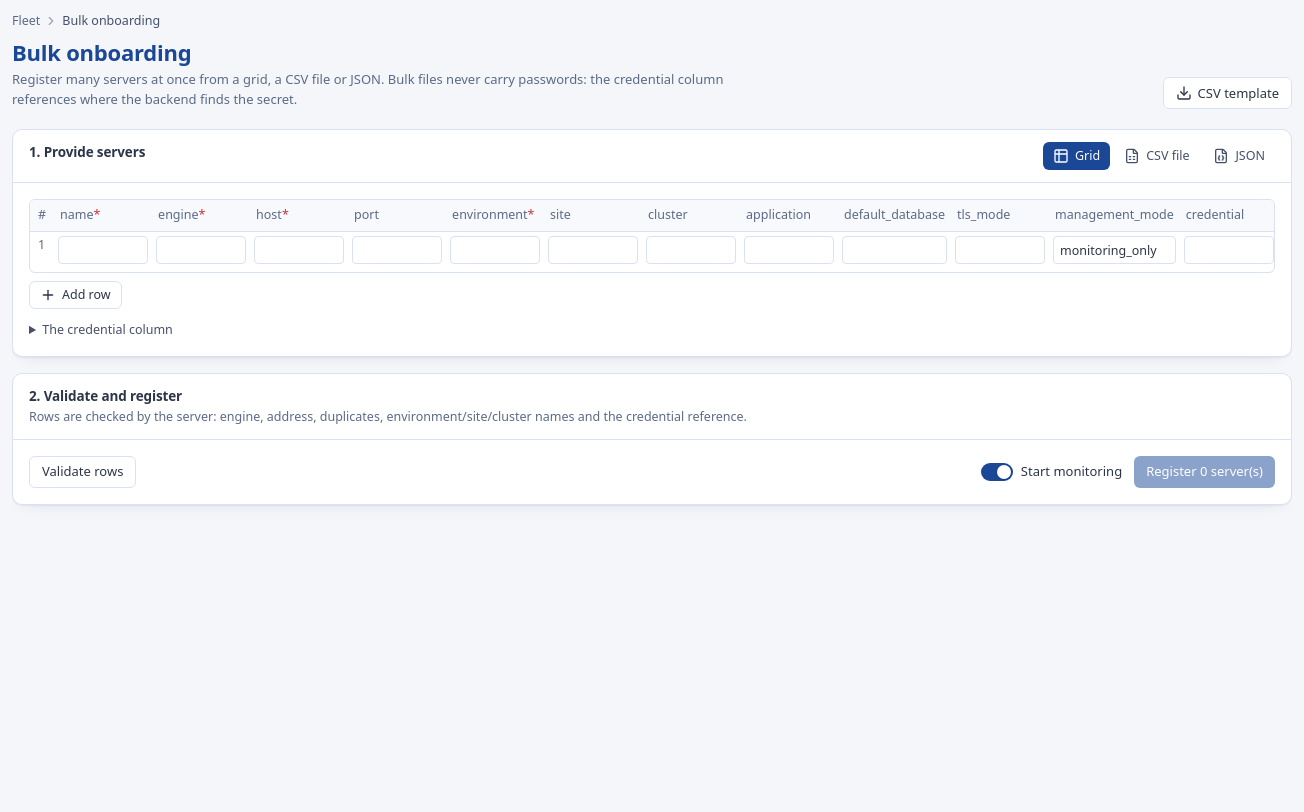
it: bulk onboarding › validates rows on the server, highlights errors in place and registers valid rows
This screenshot has width=1304, height=812.
Type "pg-01" into the field named "Row 1 name". click: [103, 250]
box: top-left (58, 236), bottom-right (148, 264)
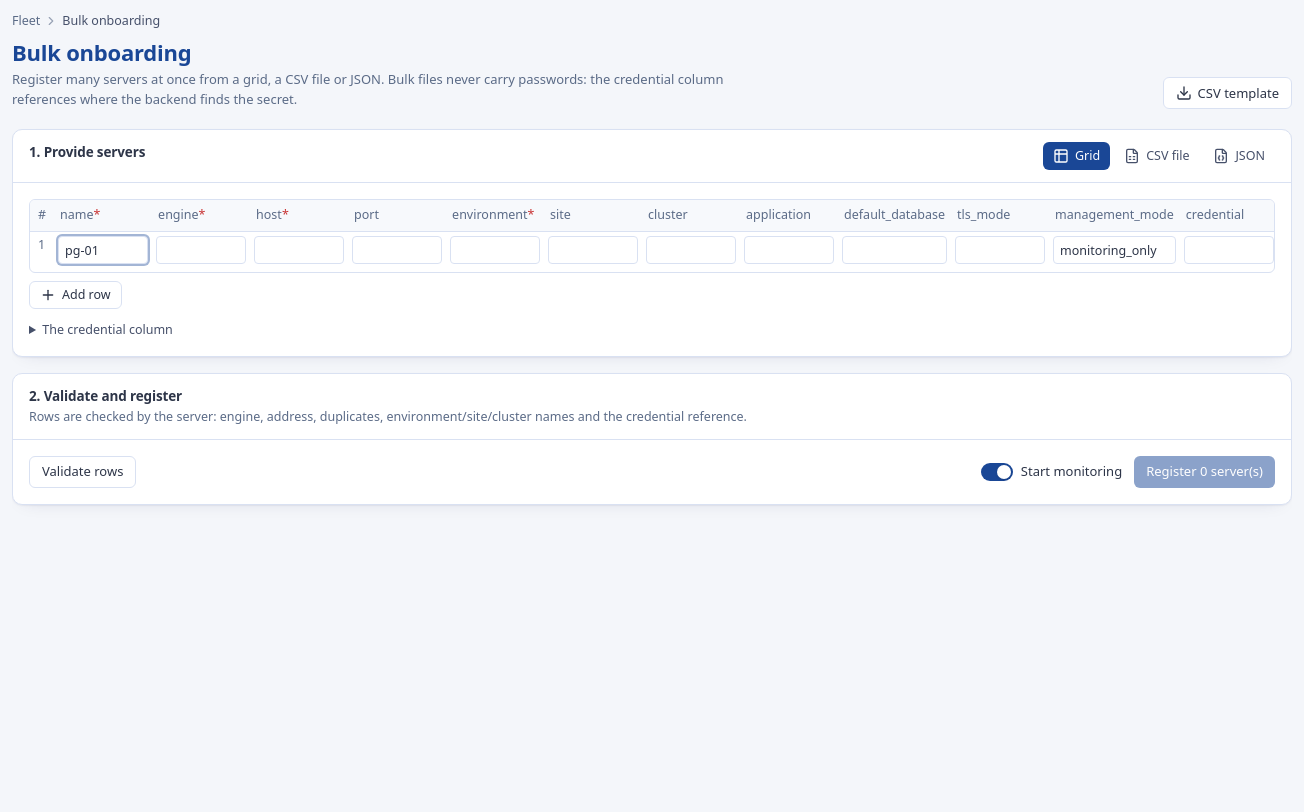
Type "Prd" into the field named "Row 1 environment". click: [495, 250]
box: top-left (450, 236), bottom-right (540, 264)
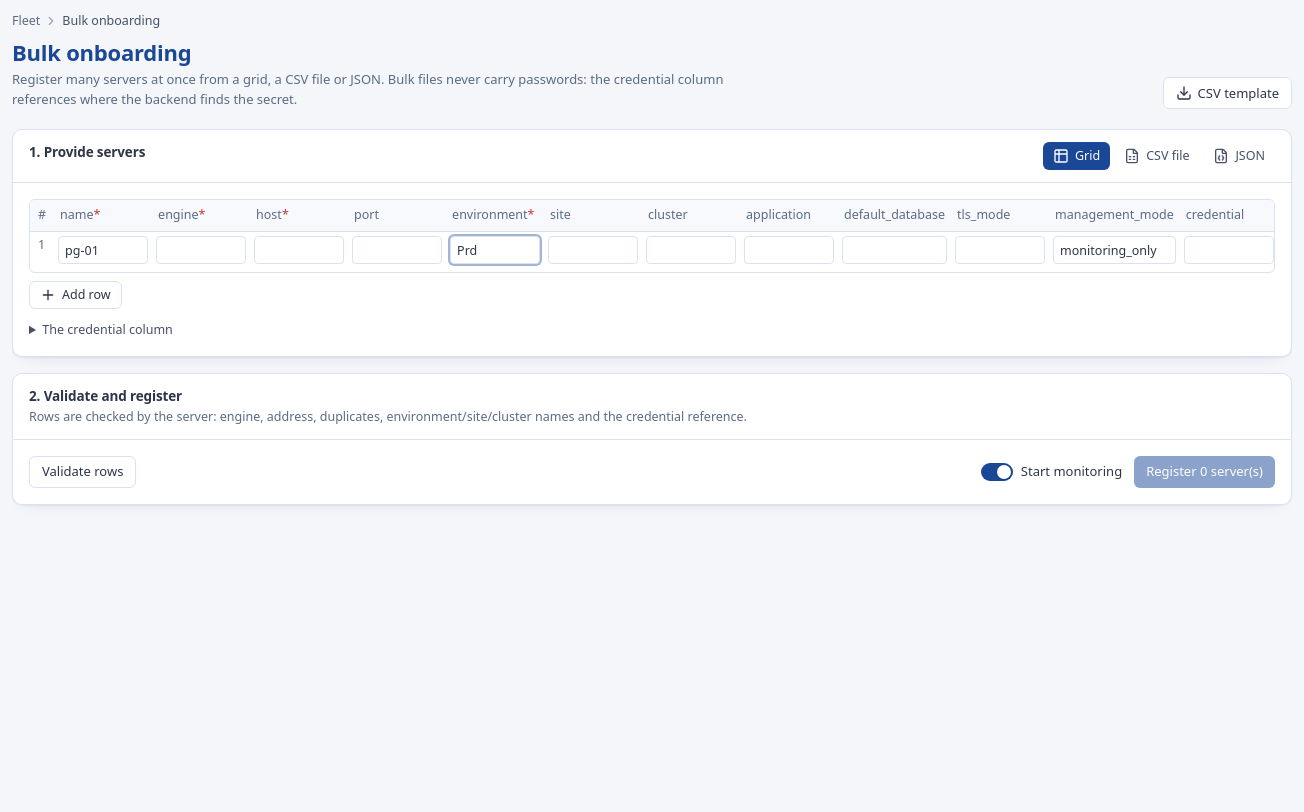
Click the button "Validate rows". click: [83, 472]
box: top-left (29, 456), bottom-right (136, 488)
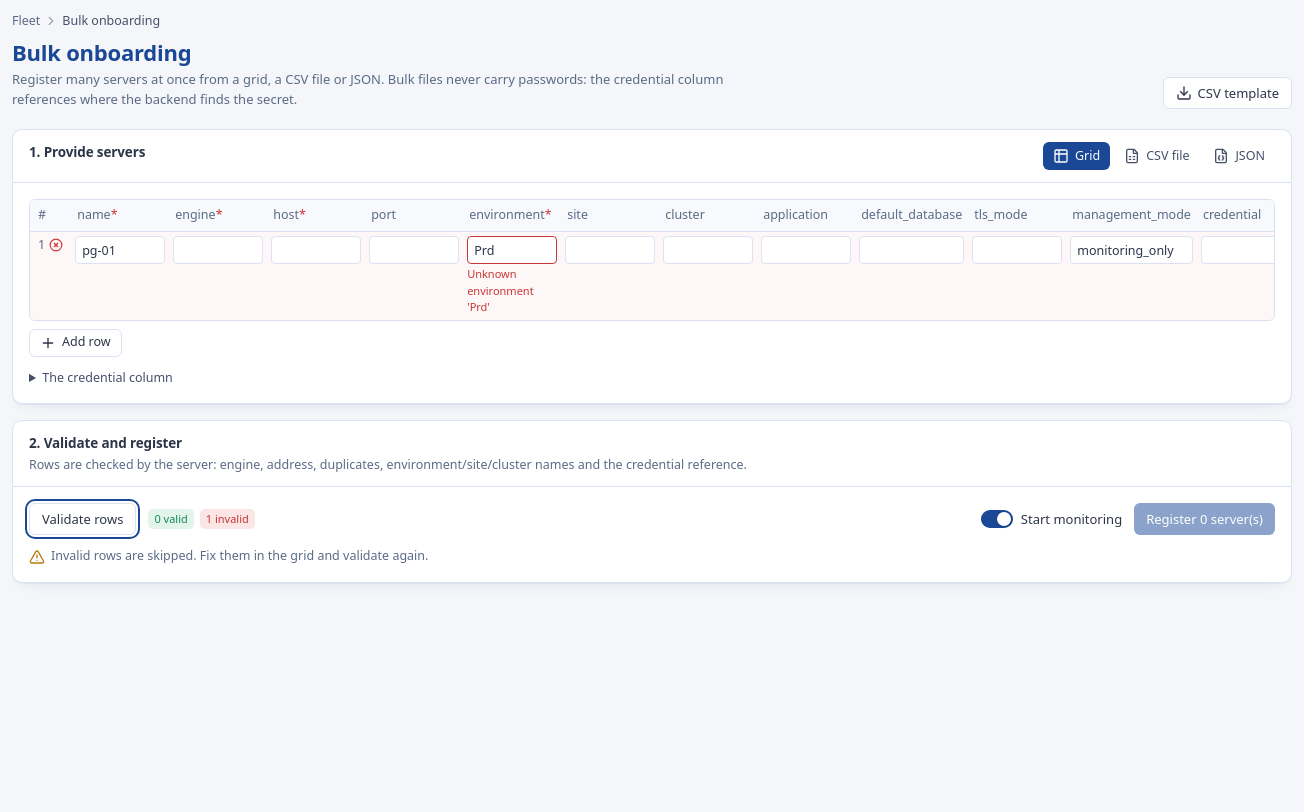
Check: the button "Register 0 server(s)" is disabled, box top-left (1134, 503), bottom-right (1275, 535)
Check: the text "Unknown environment 'Prd'" is shown, box top-left (467, 266), bottom-right (534, 314)
Type "o" into the field named "Row 1 environment". click: [512, 250]
box: top-left (467, 236), bottom-right (557, 264)
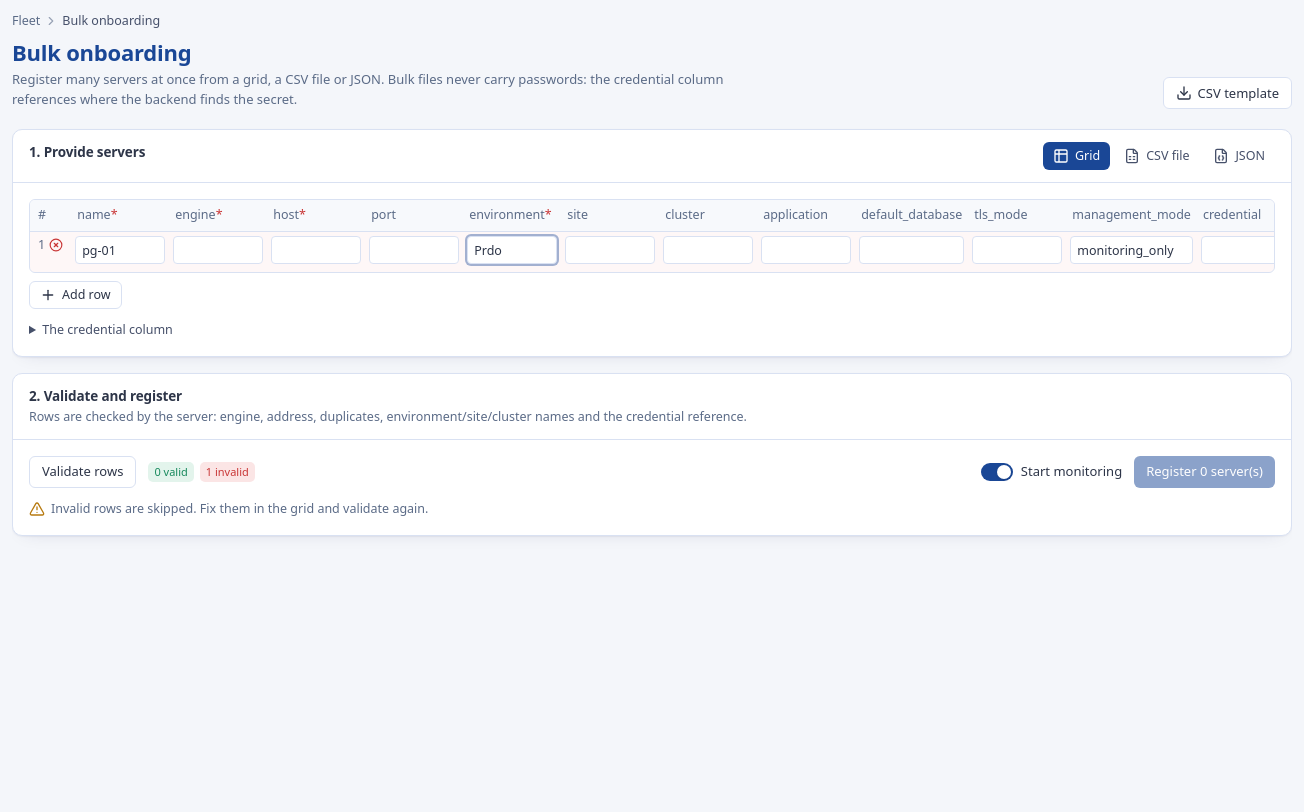
Check: the text "Unknown environment 'Prd'" is gone
